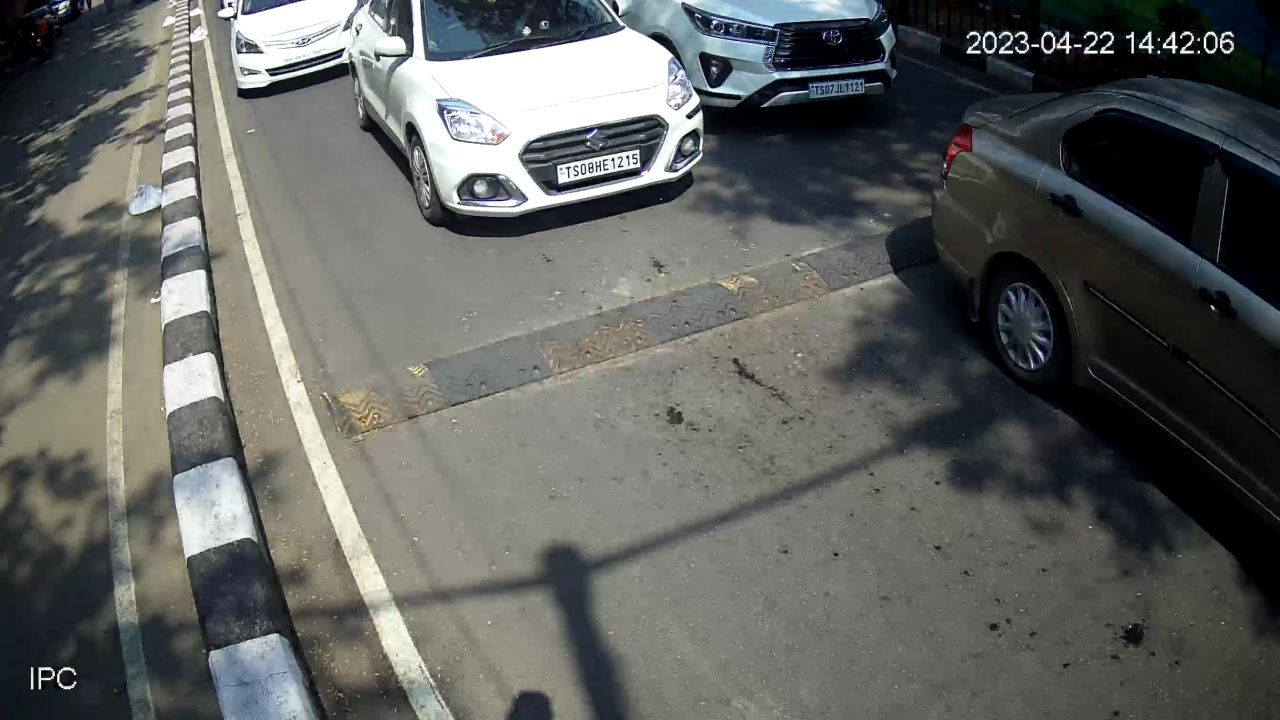license_plate: (552, 146, 645, 189), (803, 76, 873, 103)
